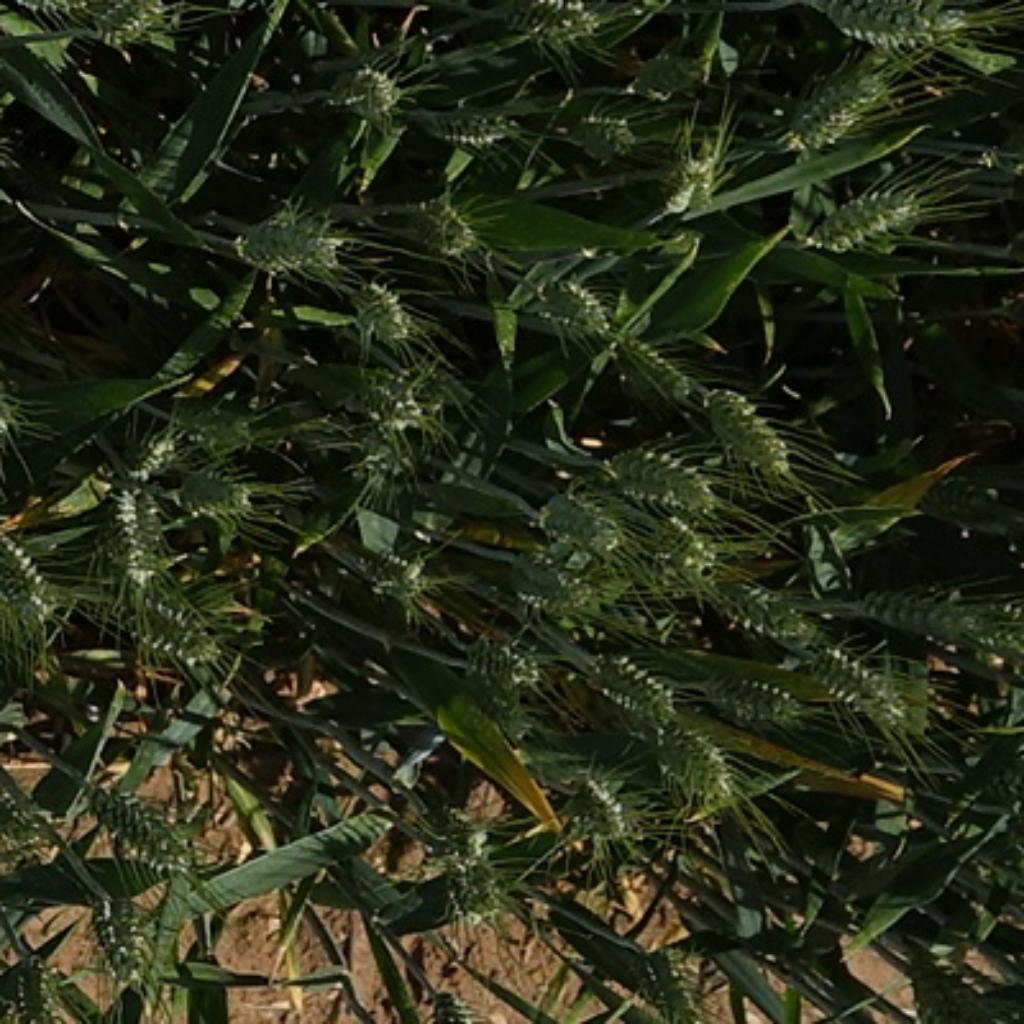0-0: (335, 358, 463, 491), (813, 636, 945, 746), (79, 768, 197, 872), (793, 59, 911, 159), (865, 573, 1016, 650), (426, 812, 533, 920), (691, 565, 834, 645), (798, 171, 931, 256), (701, 380, 799, 487), (504, 537, 627, 619), (225, 199, 350, 279), (596, 435, 716, 514), (604, 320, 709, 409), (578, 642, 680, 732), (448, 627, 542, 724), (107, 584, 219, 665), (514, 261, 622, 343), (808, 0, 975, 53), (0, 529, 73, 646), (647, 711, 734, 803), (88, 893, 167, 994), (98, 481, 170, 588), (532, 483, 624, 565), (389, 184, 486, 261), (101, 407, 197, 484), (337, 537, 435, 609), (559, 768, 644, 850), (312, 53, 407, 125), (698, 674, 820, 728), (494, 0, 609, 56), (171, 464, 264, 528), (343, 271, 422, 345), (640, 952, 721, 1024), (627, 35, 714, 102), (79, 0, 181, 56), (655, 145, 729, 222), (0, 374, 57, 473), (645, 517, 721, 586), (200, 398, 280, 463), (563, 99, 645, 161), (6, 943, 67, 1024), (430, 97, 517, 153), (410, 968, 494, 1024), (0, 770, 48, 847), (0, 491, 5, 573)
